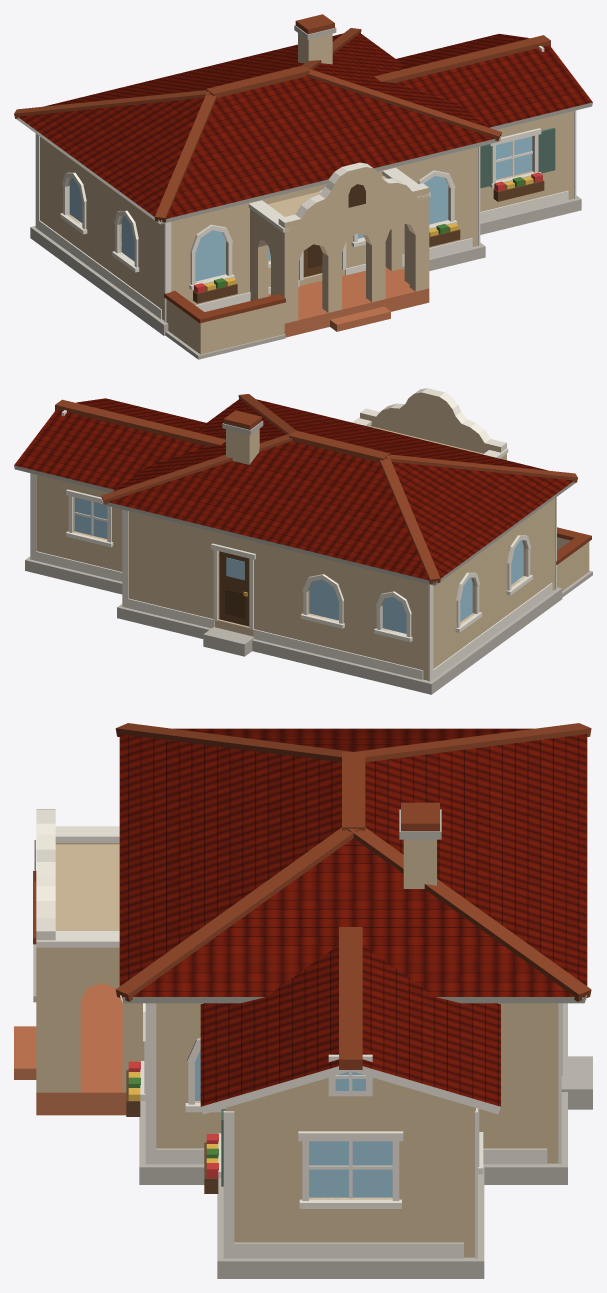
File: base-09-level2.glb
3 views of the same model, one above another, from view 1: azimuth 30°, elevation 25°; view 2: azimuth 150°, elevation 25°; view 3: azimuth 270°, elevation 25° (orthographic). The views are drawn at different scales.
Parts seen in each view (by area): view 1: base_house_9_finished, piece_addition; view 2: base_house_9_finished, piece_addition; view 3: base_house_9_finished, piece_addition.
Part boxes in pixels (box(x1,y1,x2,y2)): base_house_9_finished: box(14, 14, 501, 359); piece_addition: box(374, 33, 592, 234); base_house_9_finished: box(101, 388, 592, 694); piece_addition: box(14, 398, 225, 594); base_house_9_finished: box(14, 723, 592, 1184); piece_addition: box(200, 927, 500, 1278).
Size of the model in its own units: 15.36 by 6.08 by 10.4.
Materials: 16 (1 with a texture image).
